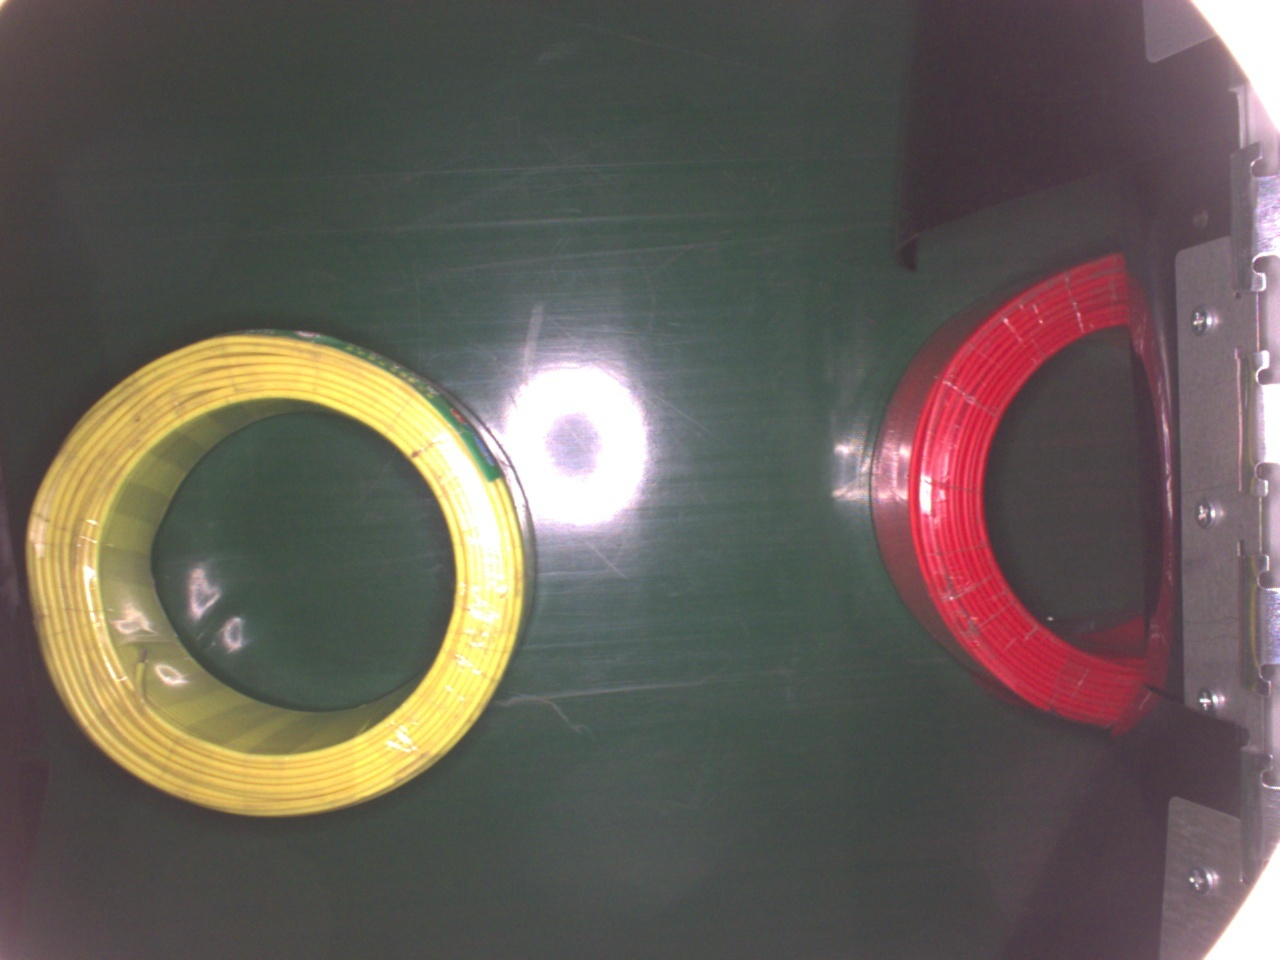red: (869, 250, 1155, 725)
yellow: (27, 317, 534, 817)
